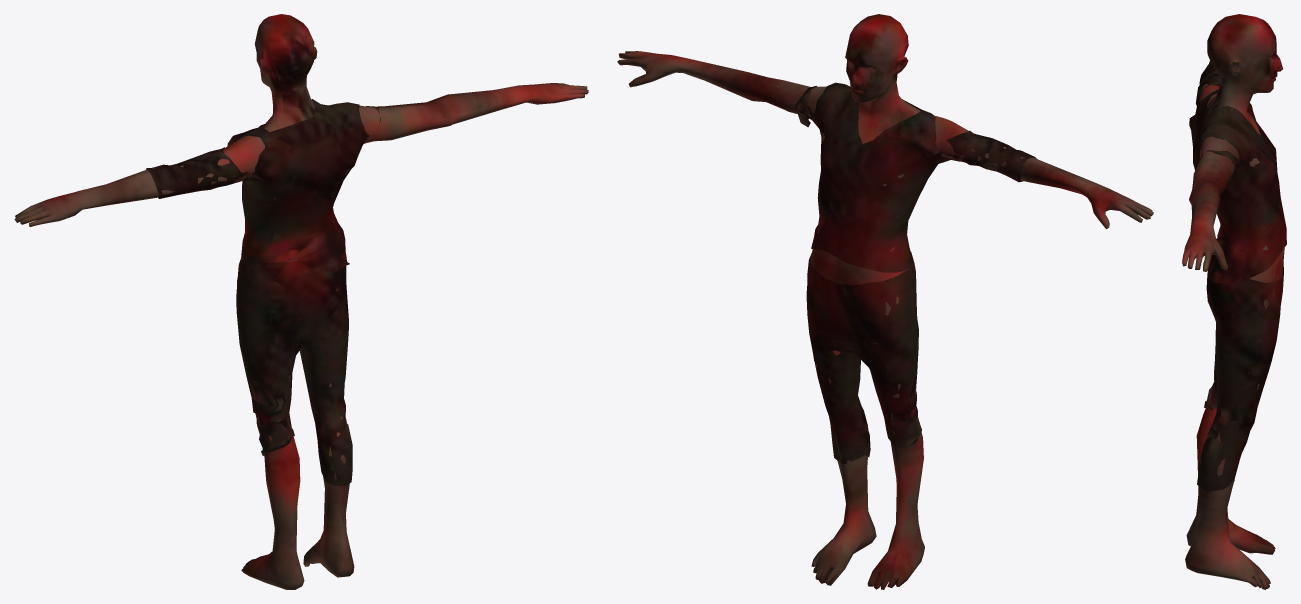
File: zombie_run_1.glb
3 renders of one model, left to right at view 1: azimuth 30°, elevation 25°; view 2: azimuth 150°, elevation 25°; view 3: azimuth 270°, elevation 25°, orthographic. The views are drawn at different scales.
Visible parts, largest first — view 1: CityDeadOutfit:Mesh1_pose; view 2: CityDeadOutfit:Mesh1_pose; view 3: CityDeadOutfit:Mesh1_pose.
Boxes of the visible parts, bbox=[...] form: CityDeadOutfit:Mesh1_pose: bbox=[14, 14, 588, 589]; CityDeadOutfit:Mesh1_pose: bbox=[617, 14, 1153, 589]; CityDeadOutfit:Mesh1_pose: bbox=[1182, 14, 1286, 589].
Bounding box in the file's own units: 1.78 × 1.75 × 0.3007.
Materials: 3 (2 with a texture image).
